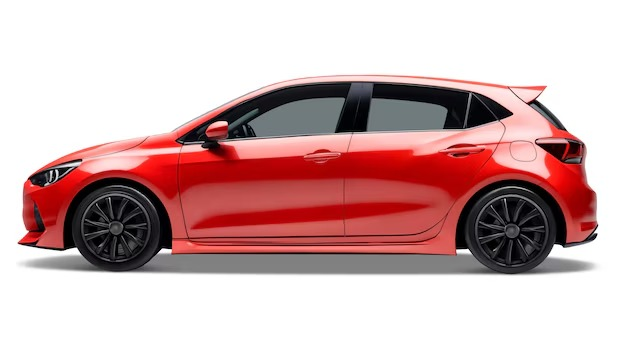car: (21, 76, 596, 275)
